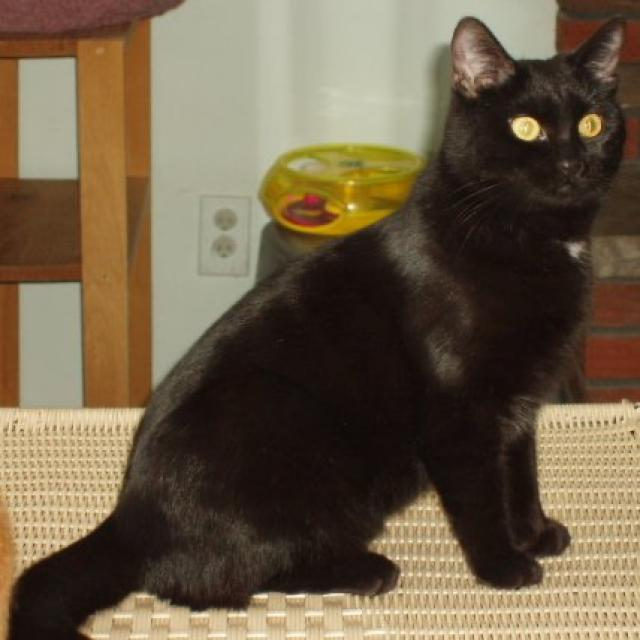cat: (450, 13, 624, 205)
